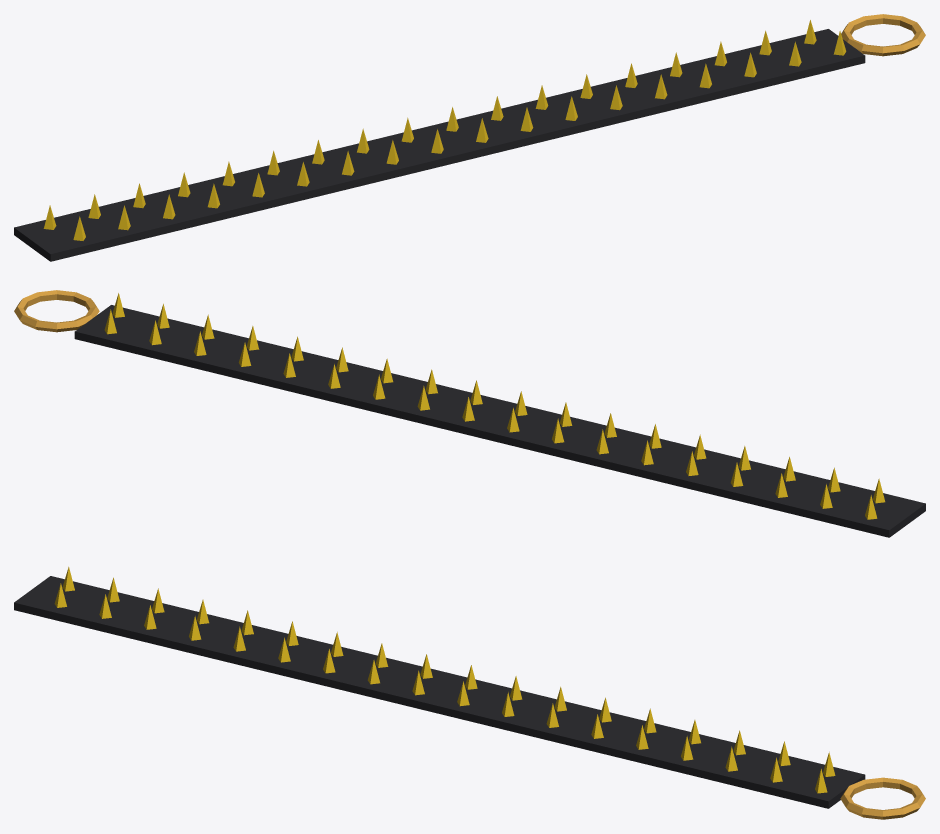
Rendered from spike_strip.glb.
The picture shows the model from 3 angles, top to bottom: view 1: azimuth 30°, elevation 25°; view 2: azimuth 150°, elevation 25°; view 3: azimuth 330°, elevation 25°; orthographic projection.
Visible parts, largest first — view 1: band_spike_band, spikes_spike_yellow, rope_spike_rope; view 2: band_spike_band, spikes_spike_yellow, rope_spike_rope; view 3: band_spike_band, spikes_spike_yellow, rope_spike_rope.
Part boxes in pixels (<box>): band_spike_band: <box>14,29,865,261</box>; spikes_spike_yellow: <box>43,20,846,240</box>; rope_spike_rope: <box>841,14,925,56</box>; band_spike_band: <box>74,305,925,537</box>; spikes_spike_yellow: <box>104,293,885,519</box>; rope_spike_rope: <box>14,290,99,332</box>; band_spike_band: <box>14,576,865,808</box>; spikes_spike_yellow: <box>54,566,835,793</box>; rope_spike_rope: <box>840,777,925,819</box>.
Size of the model in its own units: 4.9 by 0.16 by 0.41.
